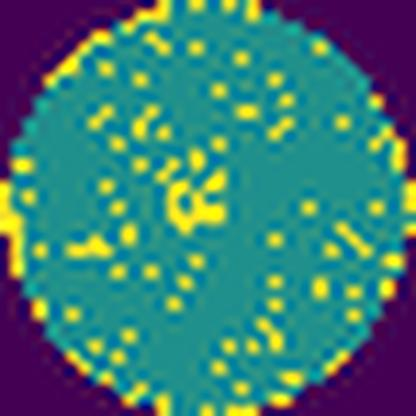Center: (160, 166, 233, 236)
